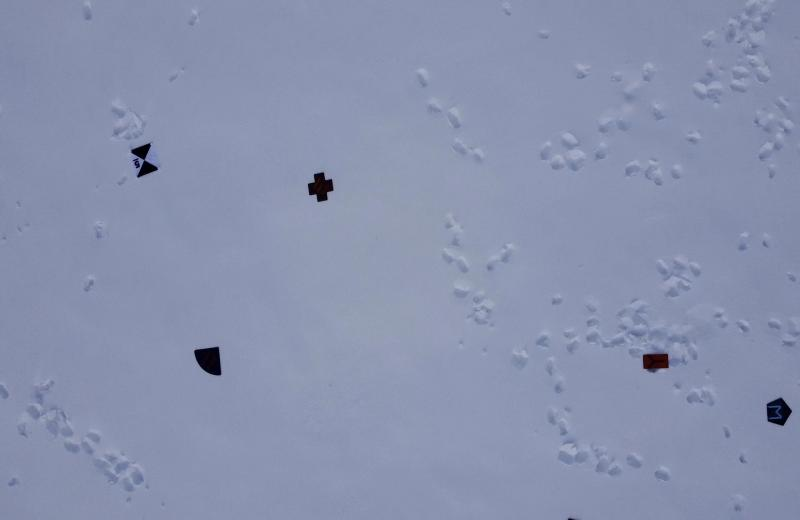Cross: (306, 169, 336, 205)
Pentagon: (766, 392, 793, 431)
Quarter Circle: (192, 342, 224, 380)
Rectangle: (636, 349, 672, 376)
